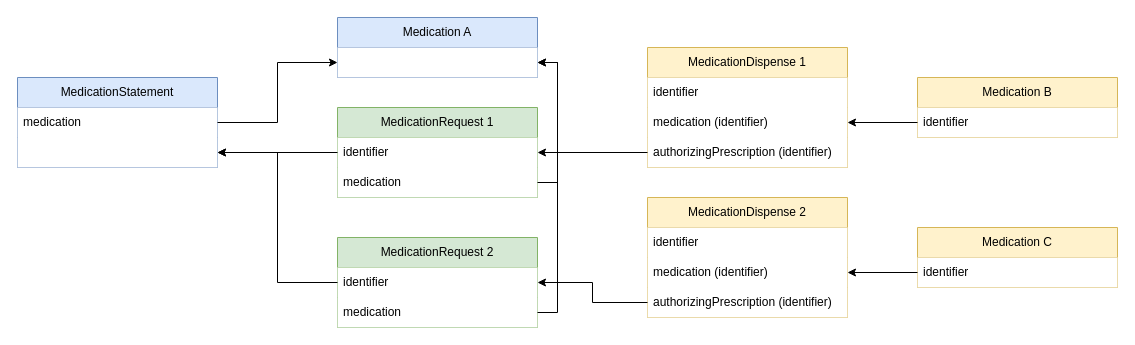
Some shapes in this 1135 by 345 pixel diagram are drawn without their labels. The shapes that lost their labels are listed below. From the top down, each one's centre as x and y in pixels, then its label:
At (437,62): "id".
At (117,152): "derivedFrom".
